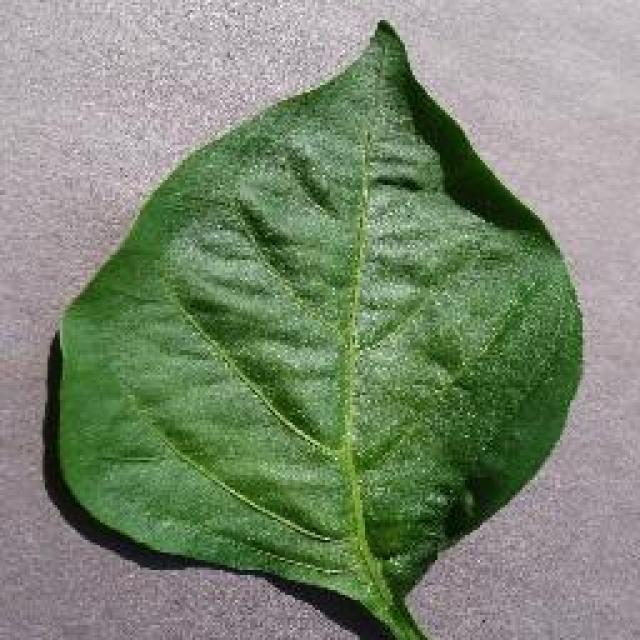Leaf: (27, 8, 606, 624)
